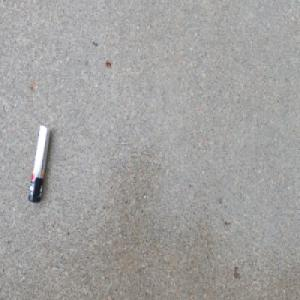Battery: (27, 122, 52, 205)
